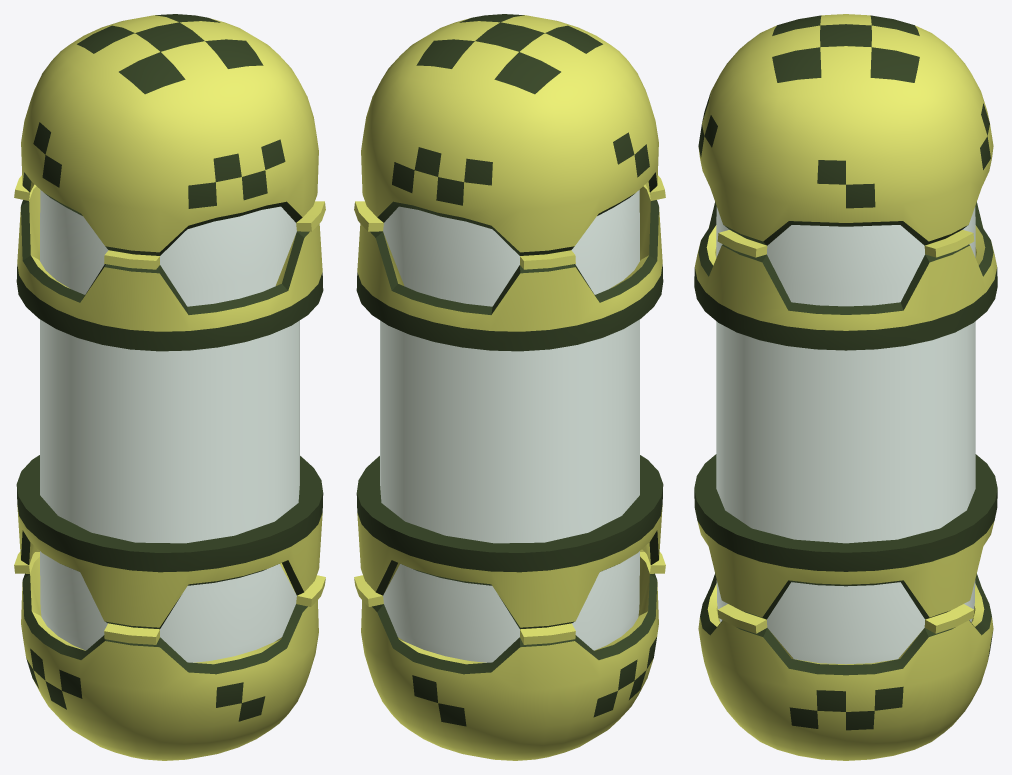
The model's file is battery.glb.
The picture shows the model from 3 angles, left to right: view 1: azimuth 30°, elevation 25°; view 2: azimuth 150°, elevation 25°; view 3: azimuth 270°, elevation 25°; orthographic projection.
Parts seen in each view (by area): view 1: Cube.001, Cube; view 2: Cube.001, Cube; view 3: Cube.001, Cube.
Boxes of the visible parts, left/top/right/bottom form: Cube.001: left=14, top=14, right=325, bottom=760; Cube: left=40, top=190, right=299, bottom=662; Cube.001: left=354, top=14, right=665, bottom=760; Cube: left=380, top=190, right=639, bottom=662; Cube.001: left=694, top=14, right=997, bottom=760; Cube: left=716, top=207, right=975, bottom=664.
Bounding box in the file's own units: 0.356 × 0.9153 × 0.356.
